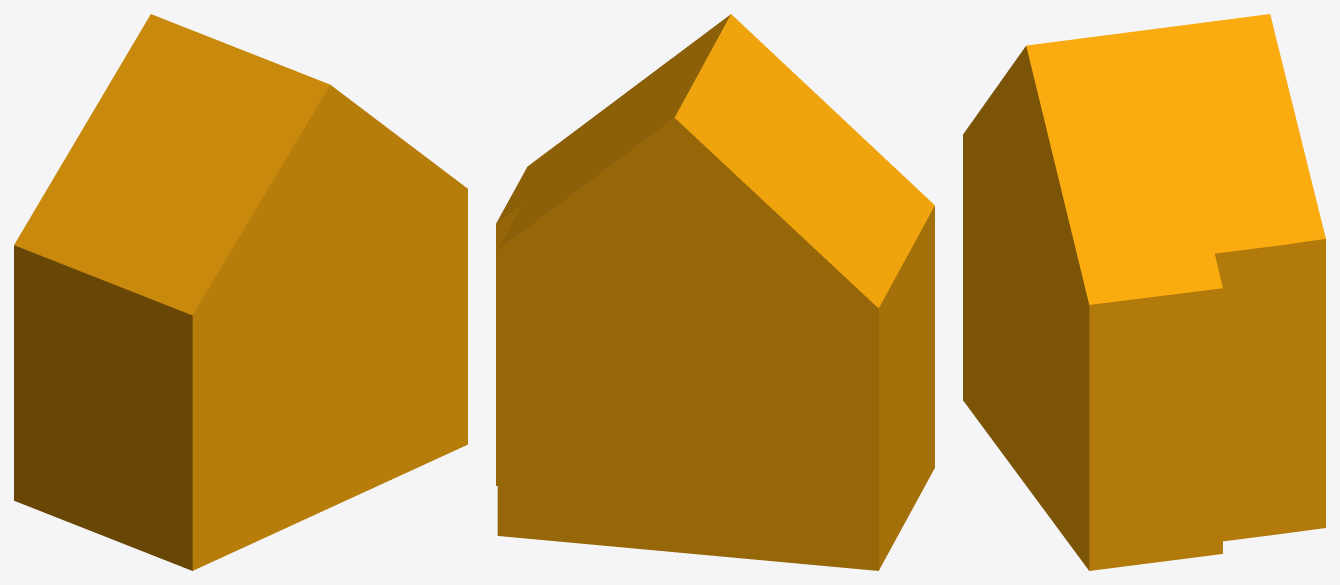
The model's file is DEHB01ALs0000gd0.gltf.
3 renders of one model, left to right at view 1: azimuth 30°, elevation 25°; view 2: azimuth 150°, elevation 25°; view 3: azimuth 270°, elevation 25°, orthographic. The views are drawn at different scales.
Visible parts, largest first — view 1: Z_UP; view 2: Z_UP; view 3: Z_UP.
Part boxes in pixels (left/top/right/bottom): Z_UP: left=14, top=14, right=467, bottom=570; Z_UP: left=496, top=14, right=934, bottom=570; Z_UP: left=963, top=14, right=1325, bottom=570.
Bounding box in the file's own units: 13.37 × 13.58 × 10.15.
